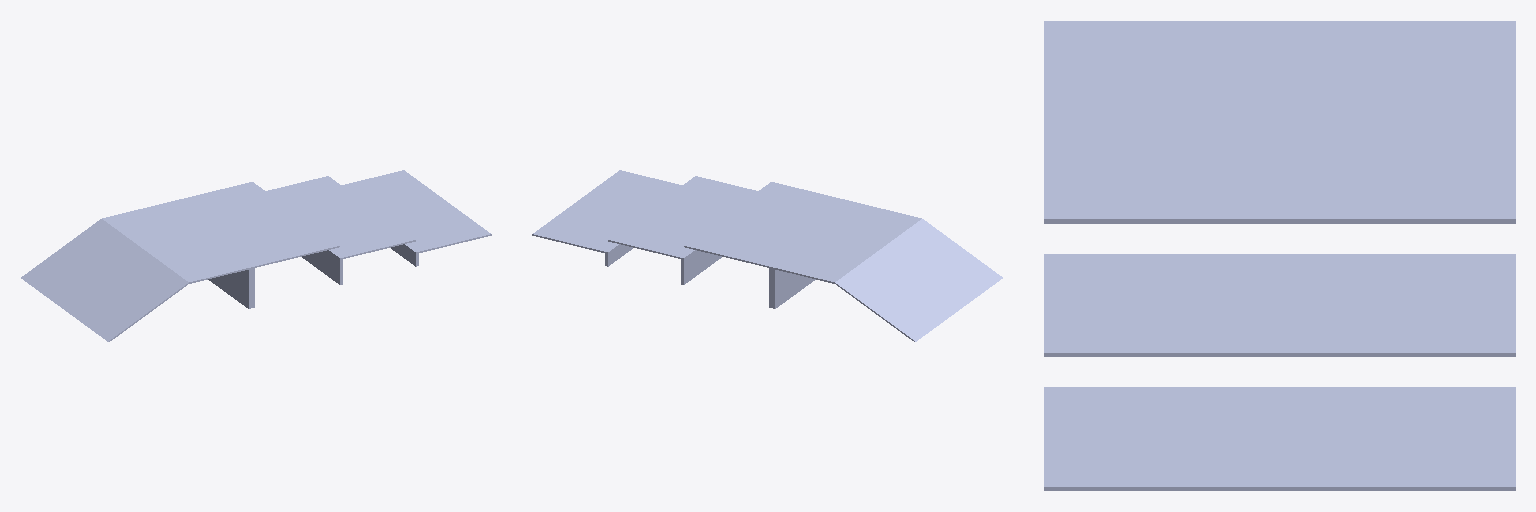
URDF robot description (map25lendoc):
<?xml version="1.0" encoding="utf-8"?>
<!-- This URDF was automatically created by SolidWorks to URDF Exporter! Originally created by [author] ([email redacted]) 
     Commit Version: 1.6.0-1-g15f4949  Build Version: 1.6.7594.29634
     For more information, please see http://wiki.ros.org/sw_urdf_exporter -->
<robot
  name="map25lendoc">
  <link
    name="base_link">
    <inertial>
      <origin
        xyz="0.209558074576399 2.22044604925031E-16 -0.104915075598902"
        rpy="0 0 0" />
      <mass
        value="40.0170338495876" />
      <inertia
        ixx="3.53555589503741"
        ixy="-3.37500330889726E-17"
        ixz="-0.335566439096687"
        iyy="3.71856709238735"
        iyz="8.42571040224251E-16"
        izz="6.85251683894787" />
    </inertial>
    <visual>
      <origin
        xyz="0 0 0"
        rpy="0 0 0" />
      <geometry>
        <mesh
          filename="package://map25lendoc/meshes/base_link.STL" />
      </geometry>
      <material
        name="">
        <color
          rgba="0.792156862745098 0.819607843137255 0.933333333333333 1" />
      </material>
    </visual>
    <collision>
      <origin
        xyz="0 0 0"
        rpy="0 0 0" />
      <geometry>
        <mesh
          filename="package://map25lendoc/meshes/base_link.STL" />
      </geometry>
    </collision>
  </link>
</robot>

--- Facts derived from the render (not from the file) ---
The picture shows the robot from 3 angles, left to right: view 1: azimuth 30°, elevation 25°; view 2: azimuth 150°, elevation 25°; view 3: azimuth 270°, elevation 25°; orthographic projection.
Robot: map25lendoc — 1 links, 0 joints (none); root link base_link; default pose: all joints at 0.
Links seen in each view (by area): view 1: base_link; view 2: base_link; view 3: base_link.
Link boxes in pixels (x1=…): base_link: x1=21, y1=170, x2=491, y2=341; base_link: x1=532, y1=170, x2=1002, y2=341; base_link: x1=1044, y1=21, x2=1515, y2=490.
Bounding box of the posed robot: 2.53 × 1 × 0.26 m (x, y, z).
Meshes: 1 distinct files referenced, 1 mesh visuals loaded (1 binary STL).